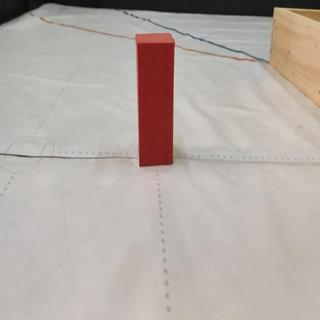redbox: (135, 34, 175, 168)
